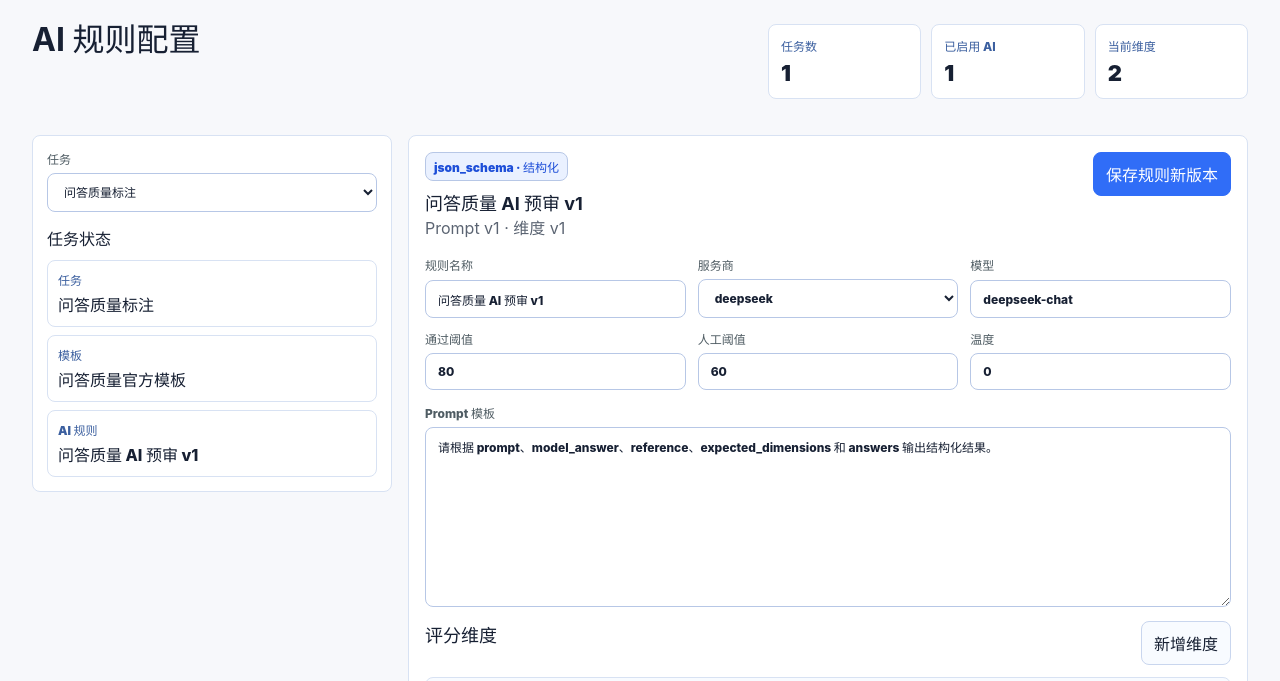
AiRuleConfigPage › 加载任务 AI 审核规则并保存新版本
Expected: the heading "AI 规则配置" is shown, [32,24,200,57]
Expected: the text "Prompt v1 · 维度 v1" is shown, [425,215,583,242]
Step 1. Clear the field labelled "规则名称" → (555, 299), box [425,280,686,318]
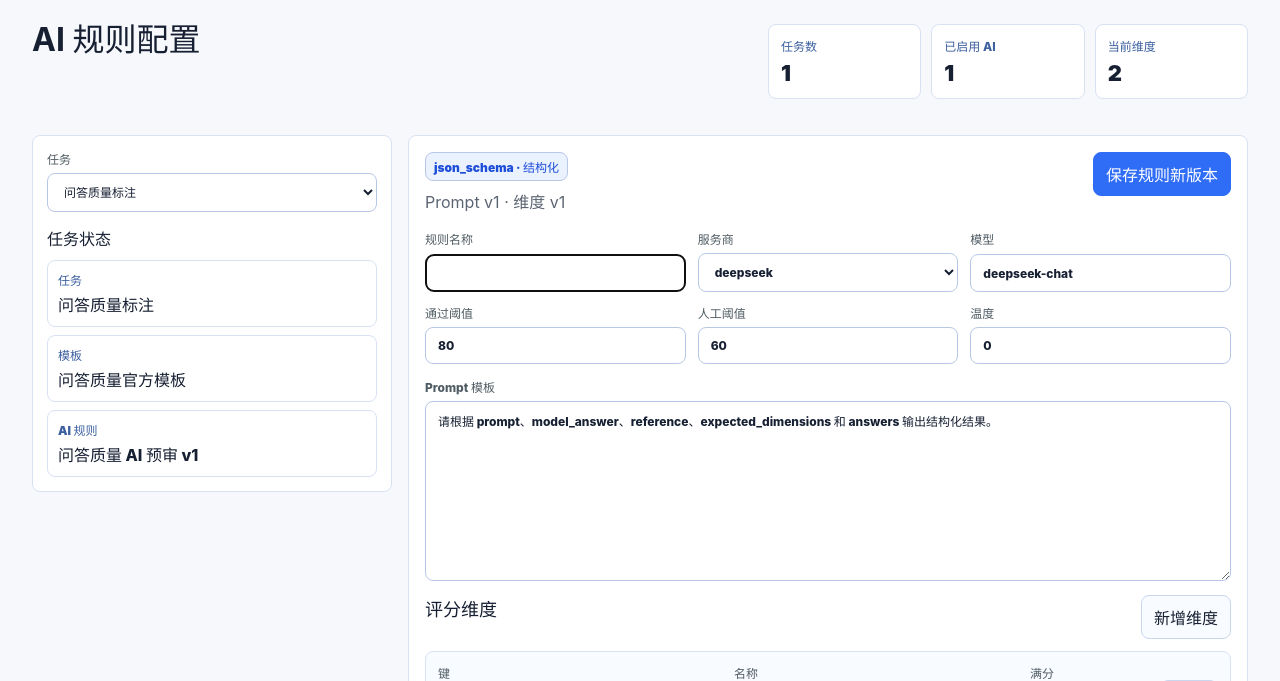
Step 2. Type "问答质量 AI 预审 v2" into the field labelled "规则名称" → (555, 273), box [425,254,686,292]
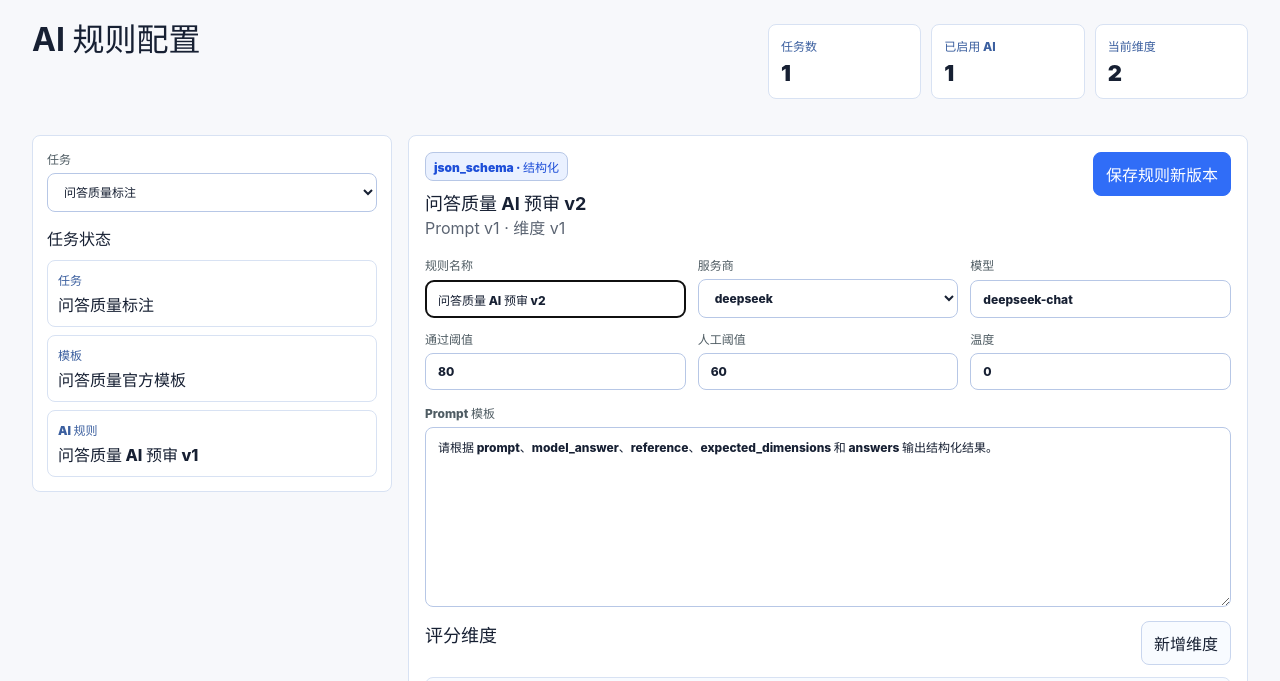
Step 3. Click the button "保存规则新版本" → (1162, 174), box [1093,152,1231,196]
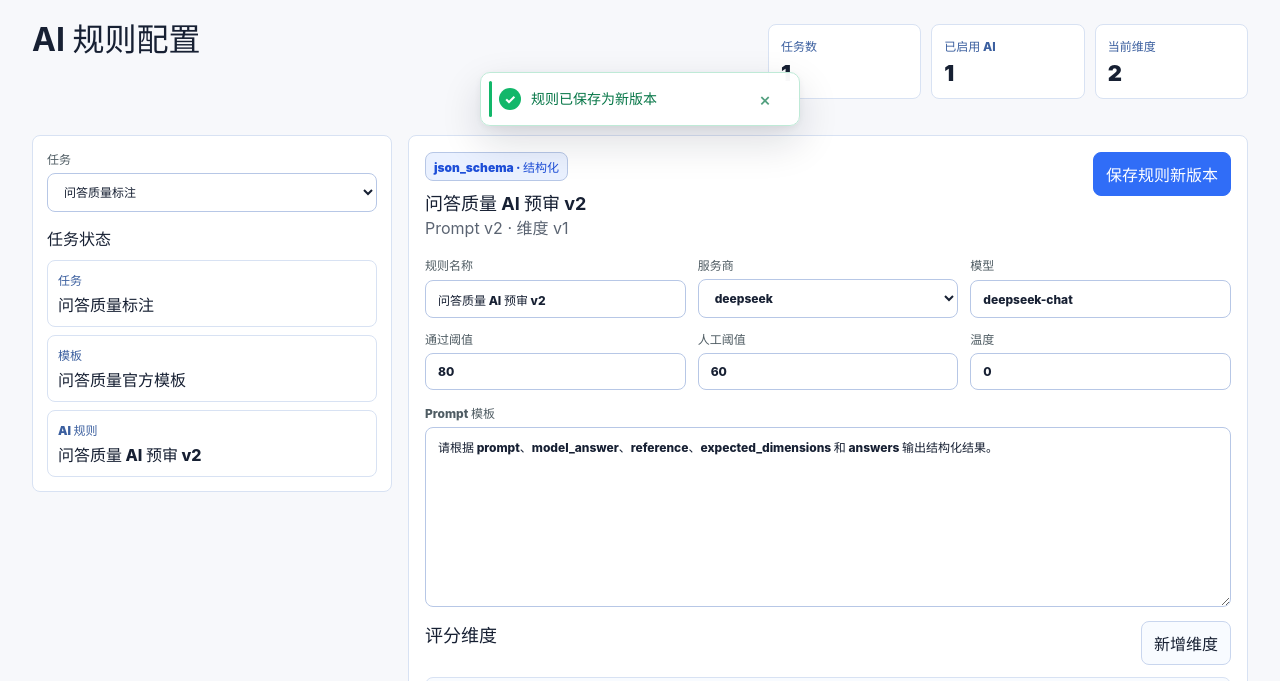
Expected: the text "规则已保存为新版本" is shown, [531,90,657,107]
